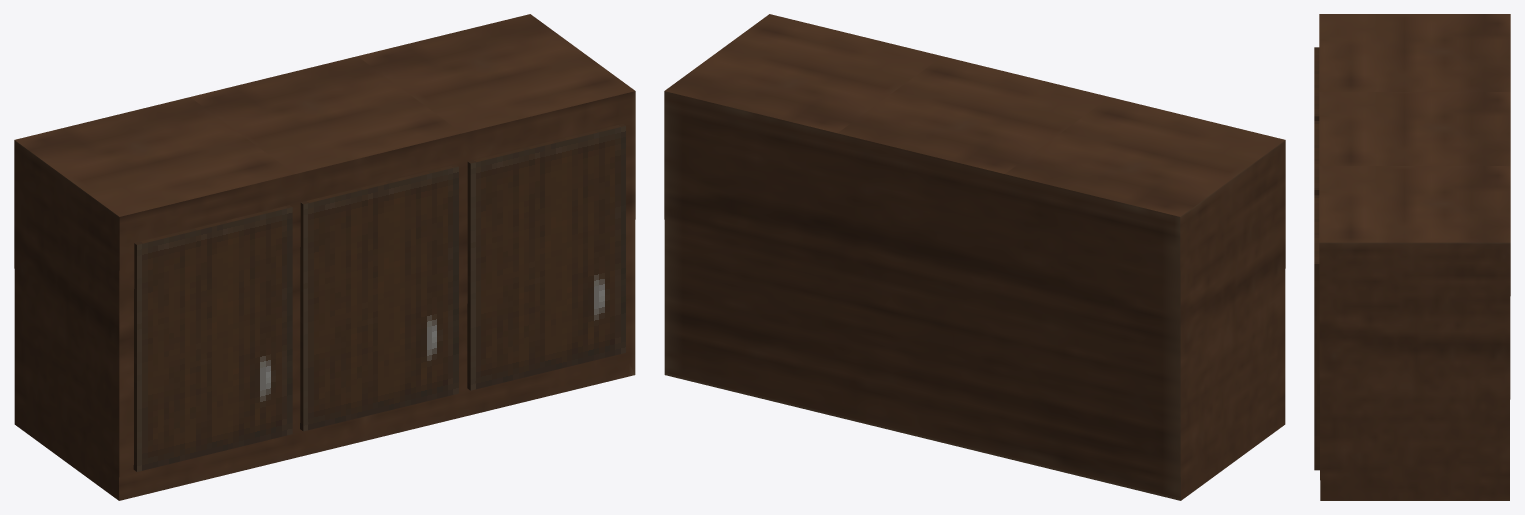
Rendered from verhn_shkaf_kuhnya.fbx.
The picture shows the model from 3 angles, left to right: view 1: azimuth 30°, elevation 25°; view 2: azimuth 150°, elevation 25°; view 3: azimuth 270°, elevation 25°; orthographic projection. The views are drawn at different scales.
Visible parts, largest first — view 1: Main_Wood_Frame.003, Doors.006, Doors.007, Doors.008; view 2: Main_Wood_Frame.003; view 3: Main_Wood_Frame.003, Doors.008, Doors.007, Doors.006.
Part boxes in pixels (x1,y1,x2,y2): Main_Wood_Frame.003: [14, 14, 635, 500]; Doors.006: [133, 205, 292, 471]; Doors.007: [300, 164, 458, 431]; Doors.008: [467, 124, 625, 390]; Main_Wood_Frame.003: [664, 14, 1285, 500]; Main_Wood_Frame.003: [1319, 14, 1510, 500]; Doors.008: [1314, 195, 1319, 470]; Doors.007: [1314, 121, 1319, 195]; Doors.006: [1314, 47, 1319, 120].
Size of the model in its own units: 164 by 86.54 by 59.64.
2 materials, 2 textured.
